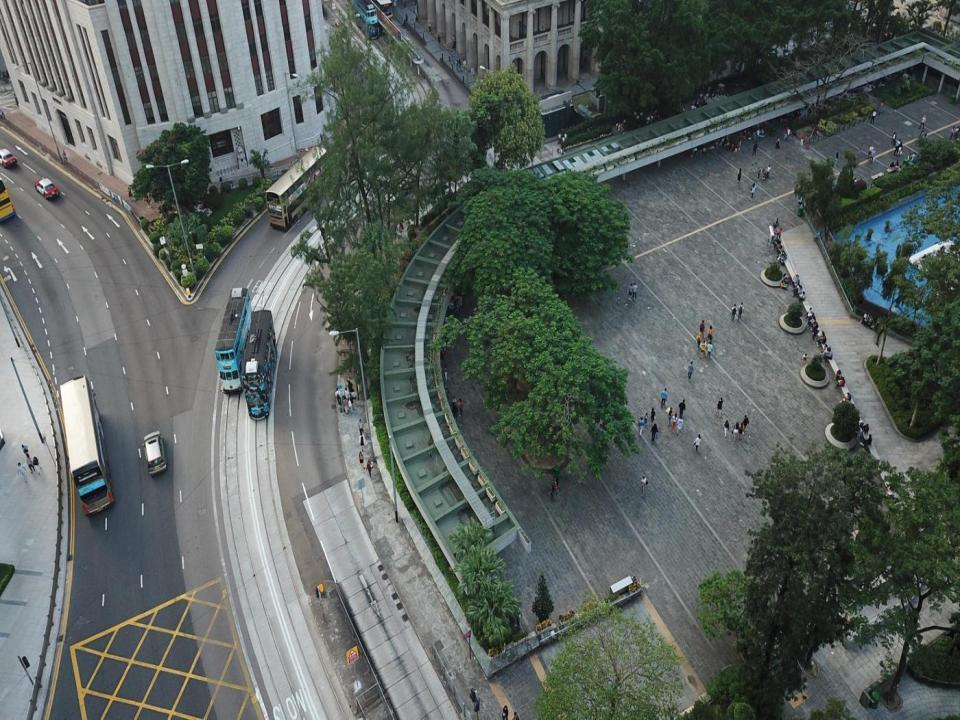bus: (58, 376, 113, 516), (264, 144, 330, 232), (241, 310, 275, 420), (216, 287, 248, 391), (348, 0, 380, 38)
car: (143, 430, 166, 474), (385, 175, 412, 202), (34, 177, 60, 199), (0, 148, 17, 168), (576, 104, 592, 118)
